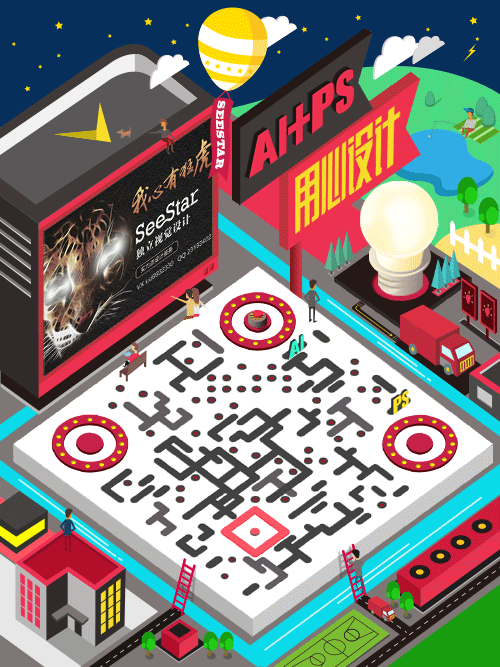QRCode: (47, 289, 463, 600)
